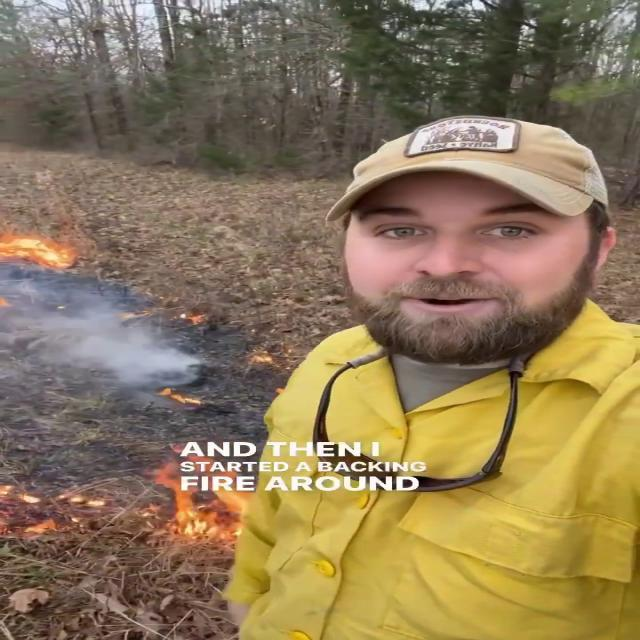Fire: (0, 218, 84, 274)
Smoke: (0, 278, 222, 401)
